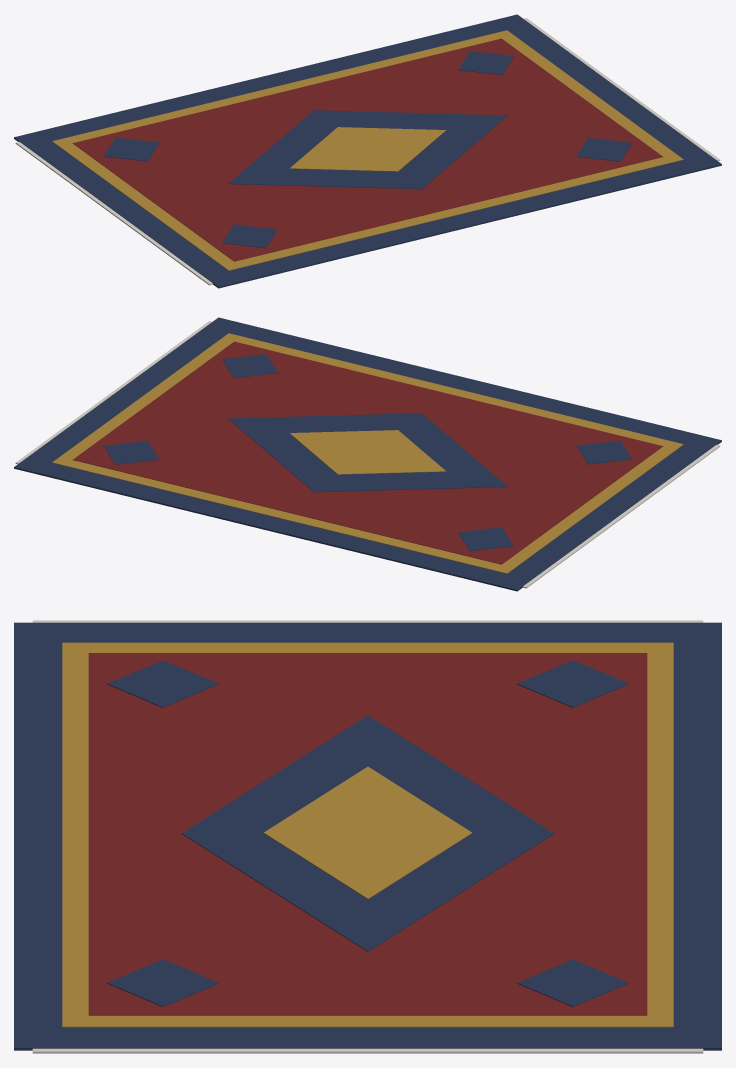
File: persian_rug.glb
3 views of the same model, one above another, from view 1: azimuth 30°, elevation 25°; view 2: azimuth 150°, elevation 25°; view 3: azimuth 270°, elevation 25° (orthographic). The views are drawn at different scales.
Parts seen in each view (by area): view 1: persian_rug; view 2: persian_rug; view 3: persian_rug.
Part boxes in pixels (x1,y1,x2,y2): persian_rug: (14,14,721,288); persian_rug: (14,317,721,591); persian_rug: (14,620,721,1053).
Bounding box in the file's own units: 2.74 × 0.016 × 1.9.
1 material, 1 textured.
